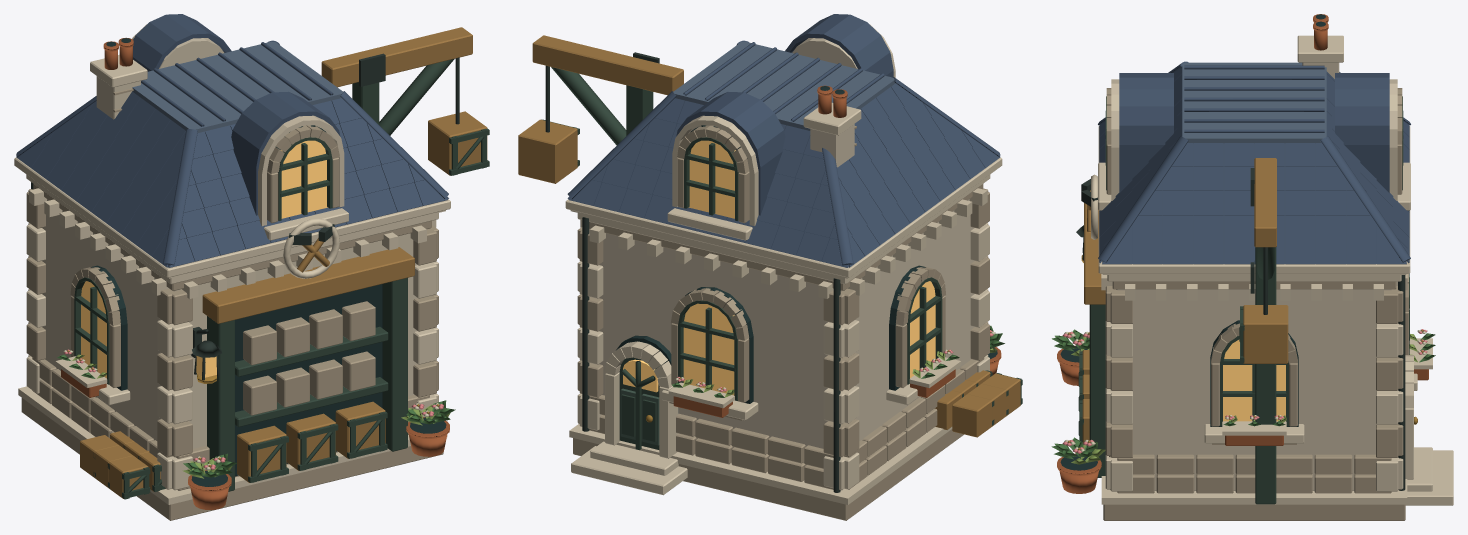
The picture shows the model from 3 angles, left to right: view 1: azimuth 30°, elevation 25°; view 2: azimuth 150°, elevation 25°; view 3: azimuth 270°, elevation 25°; orthographic projection.
Visible parts, largest first — view 1: classic_builders_guild_geometry, classic_builders_guild_geometry ceramic, classic_crane_load_geometry; view 2: classic_builders_guild_geometry, classic_builders_guild_geometry ceramic, classic_crane_load_geometry; view 3: classic_builders_guild_geometry, classic_builders_guild_geometry ceramic, classic_crane_load_geometry.
Part boxes in pixels (left/top/right/bottom): classic_builders_guild_geometry: left=14, top=24, right=472, bottom=520; classic_builders_guild_geometry ceramic: left=16, top=14, right=448, bottom=267; classic_crane_load_geometry: left=428, top=57, right=489, bottom=175; classic_builders_guild_geometry: left=532, top=24, right=1022, bottom=520; classic_builders_guild_geometry ceramic: left=567, top=14, right=1000, bottom=267; classic_crane_load_geometry: left=518, top=65, right=579, bottom=183; classic_builders_guild_geometry: left=1051, top=14, right=1453, bottom=520; classic_builders_guild_geometry ceramic: left=1098, top=61, right=1410, bottom=264; classic_crane_load_geometry: left=1239, top=247, right=1288, bottom=363.
Bounding box in the file's own units: 1.04 × 0.9099 × 0.8444.
